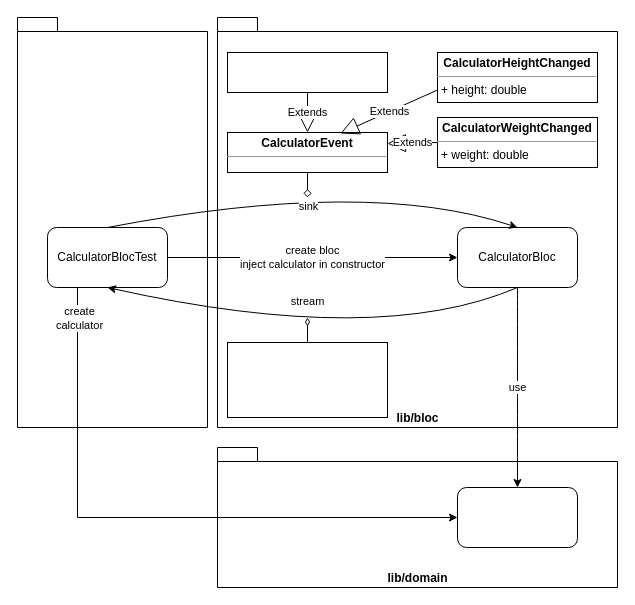
Image size: 635x605. Some labels were removed from this diagram. Each missing label, with the box of its shape:
BmiCalculator: (456, 486, 578, 548)
CalculatorReset: (226, 52, 388, 92)
CalculatorState + height: double + weight: double + bmi: double: (226, 342, 388, 418)
test/bloc: (16, 16, 208, 428)
